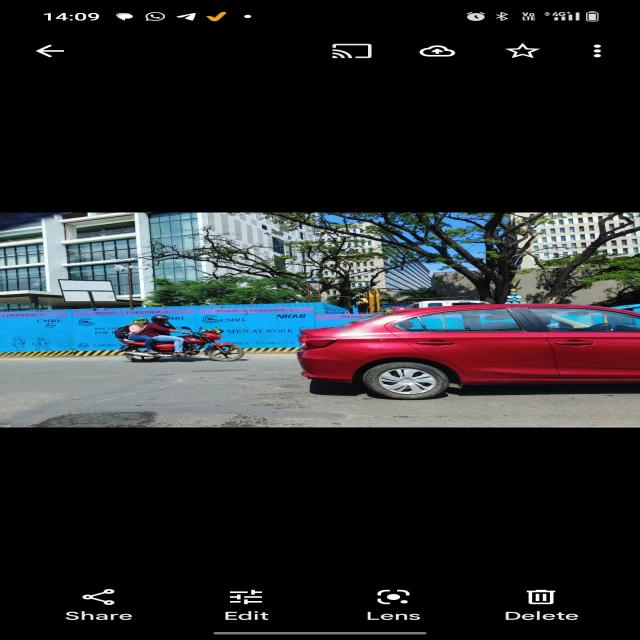scratch: (377, 338, 386, 342)
